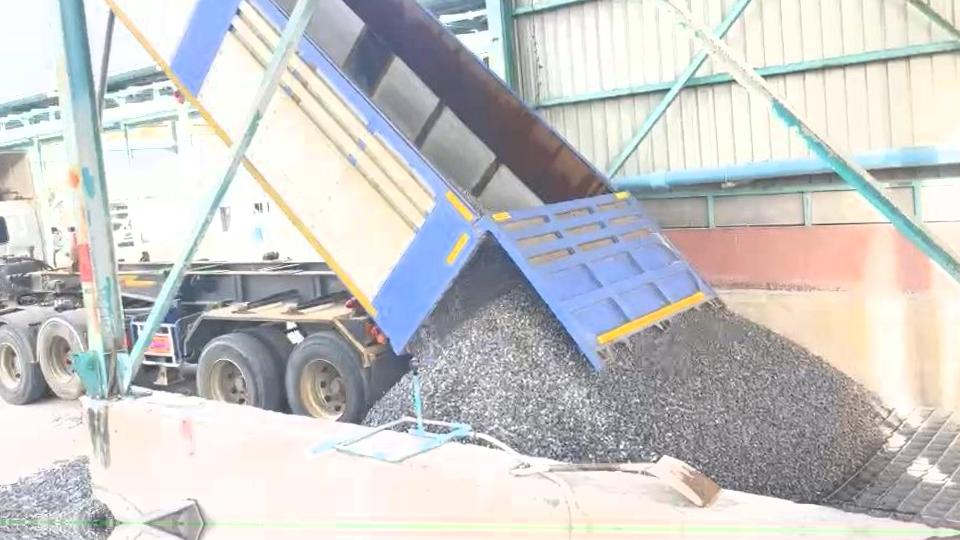gravel: (410, 250, 889, 500), (0, 457, 114, 520), (367, 377, 411, 422)
